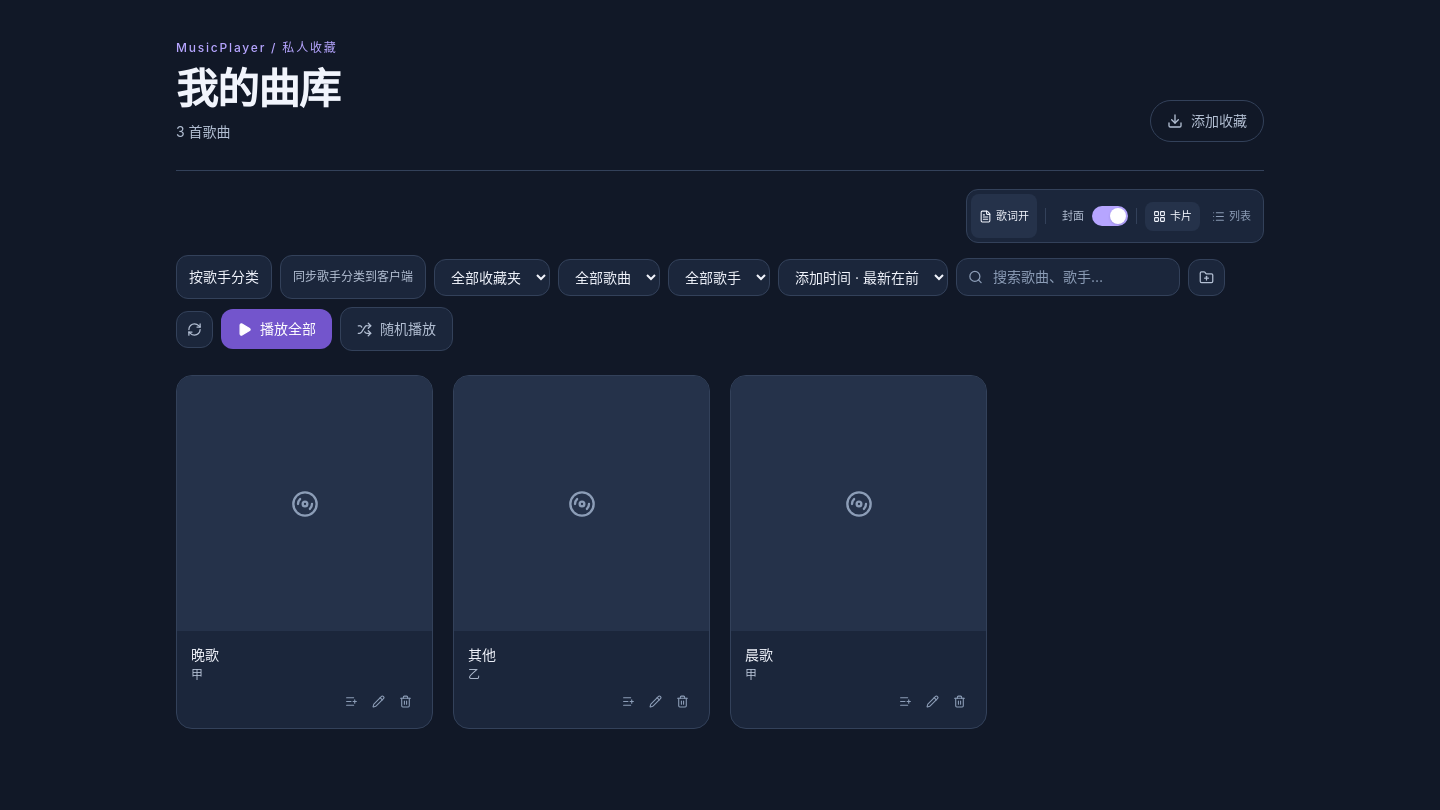
Scenario: reports a failed refresh and allows another attempt without changing the queue
This screenshot has width=1440, height=810.
Click the button named "刷新曲库". click: (194, 329)
box: [176, 311, 213, 348]
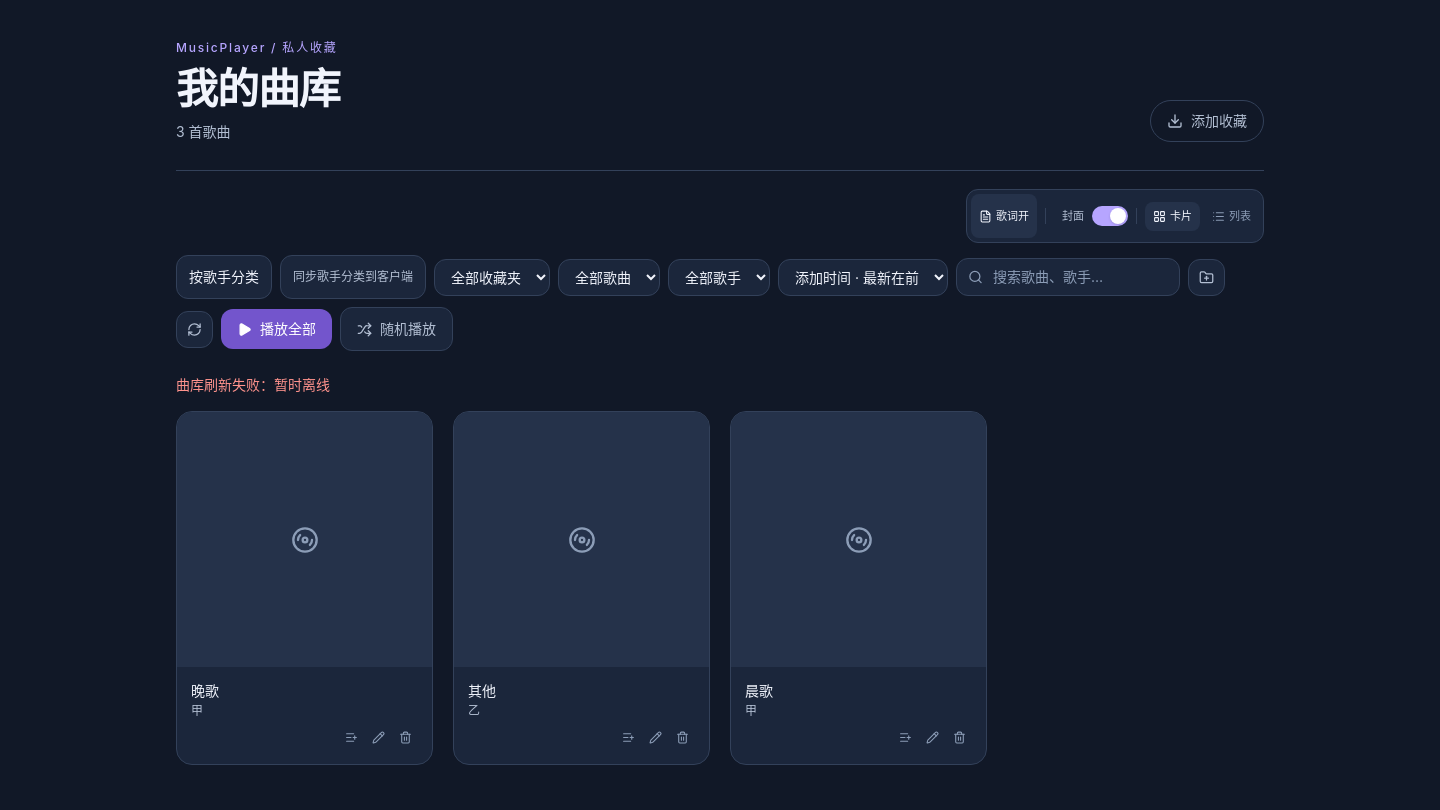
Check: the message "曲库刷新失败：暂时离线" is shown, box [176, 376, 330, 393]
Check: the message shows "暂时离线", box [274, 376, 330, 393]
Click the button named "刷新曲库". click: (194, 329)
box: [176, 311, 213, 348]
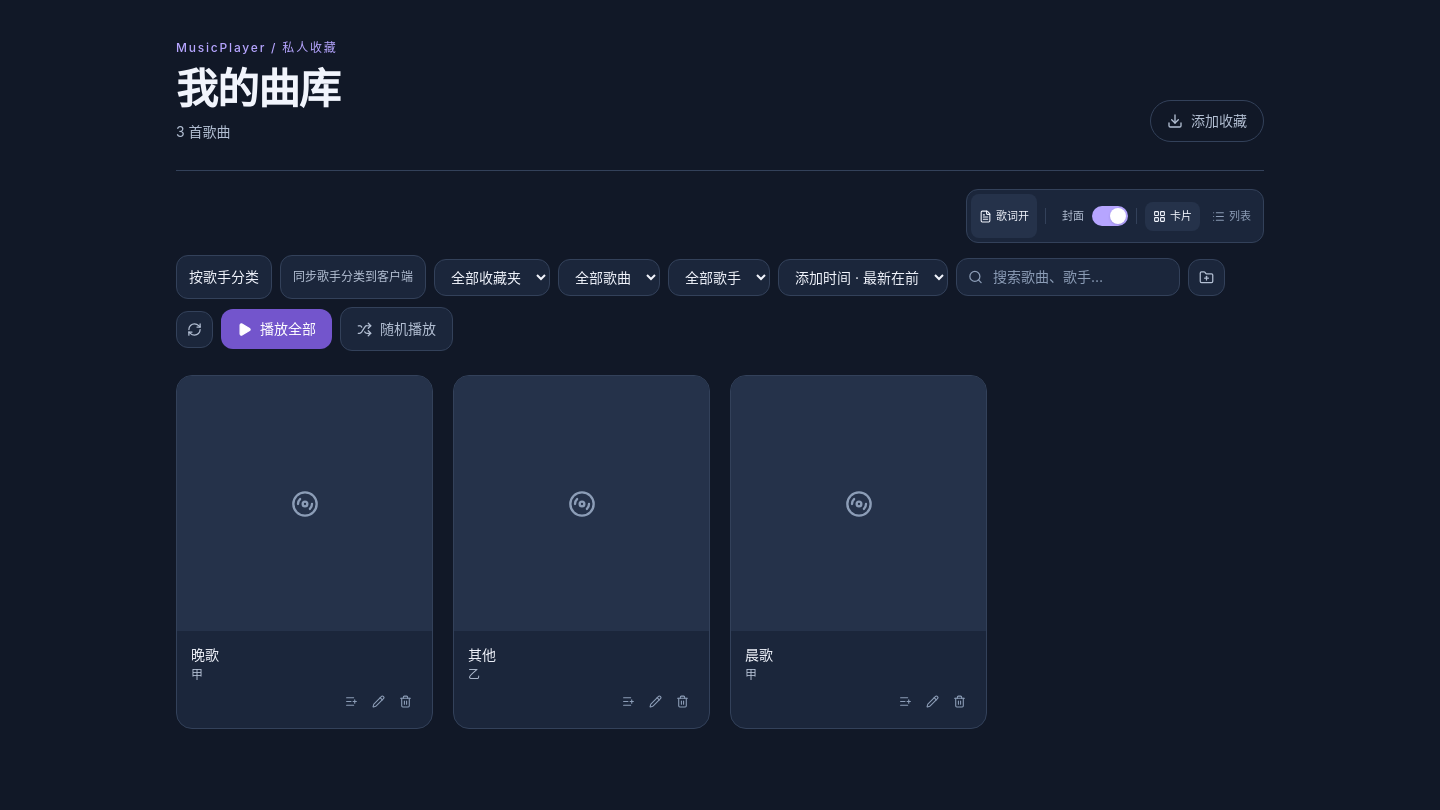
Check: the message "曲库刷新失败：暂时离线" is gone
